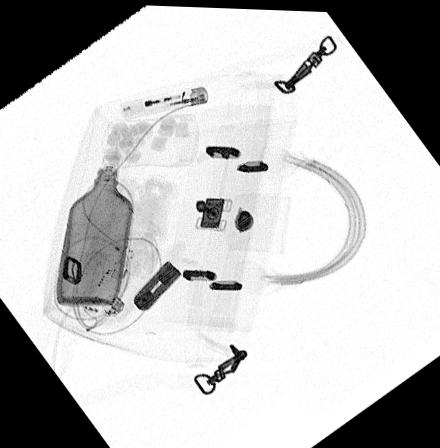Lighter: (119, 84, 210, 119)
